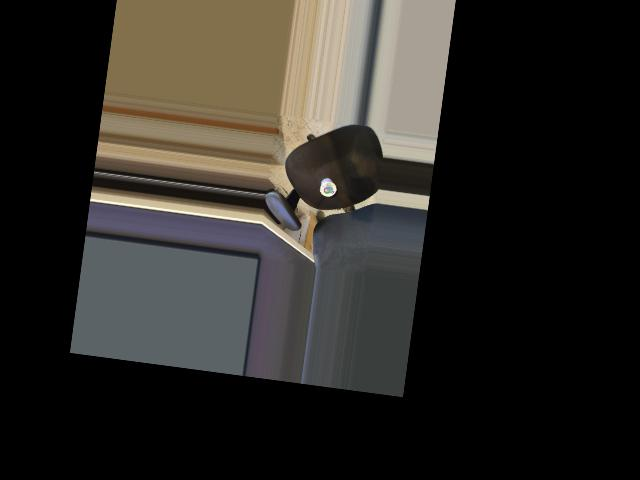cotage: (318, 173, 341, 199)
